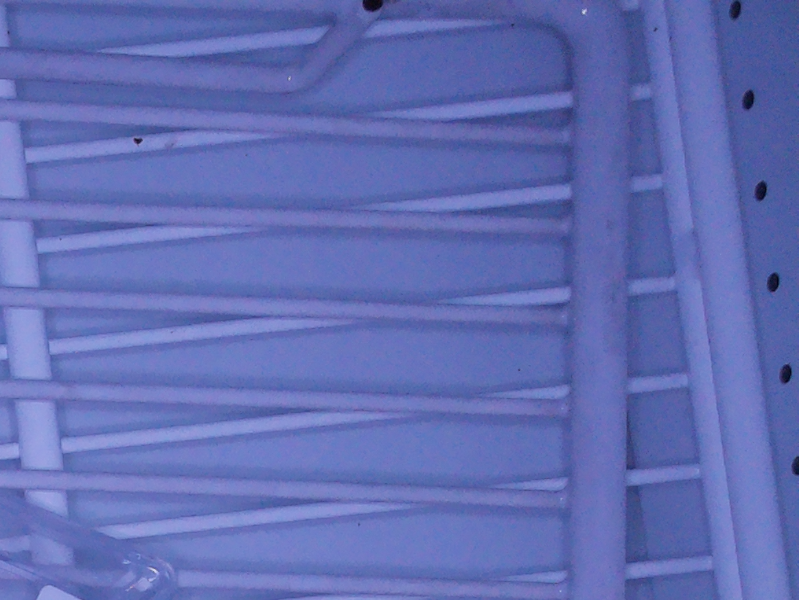plate: (1, 488, 179, 600)
